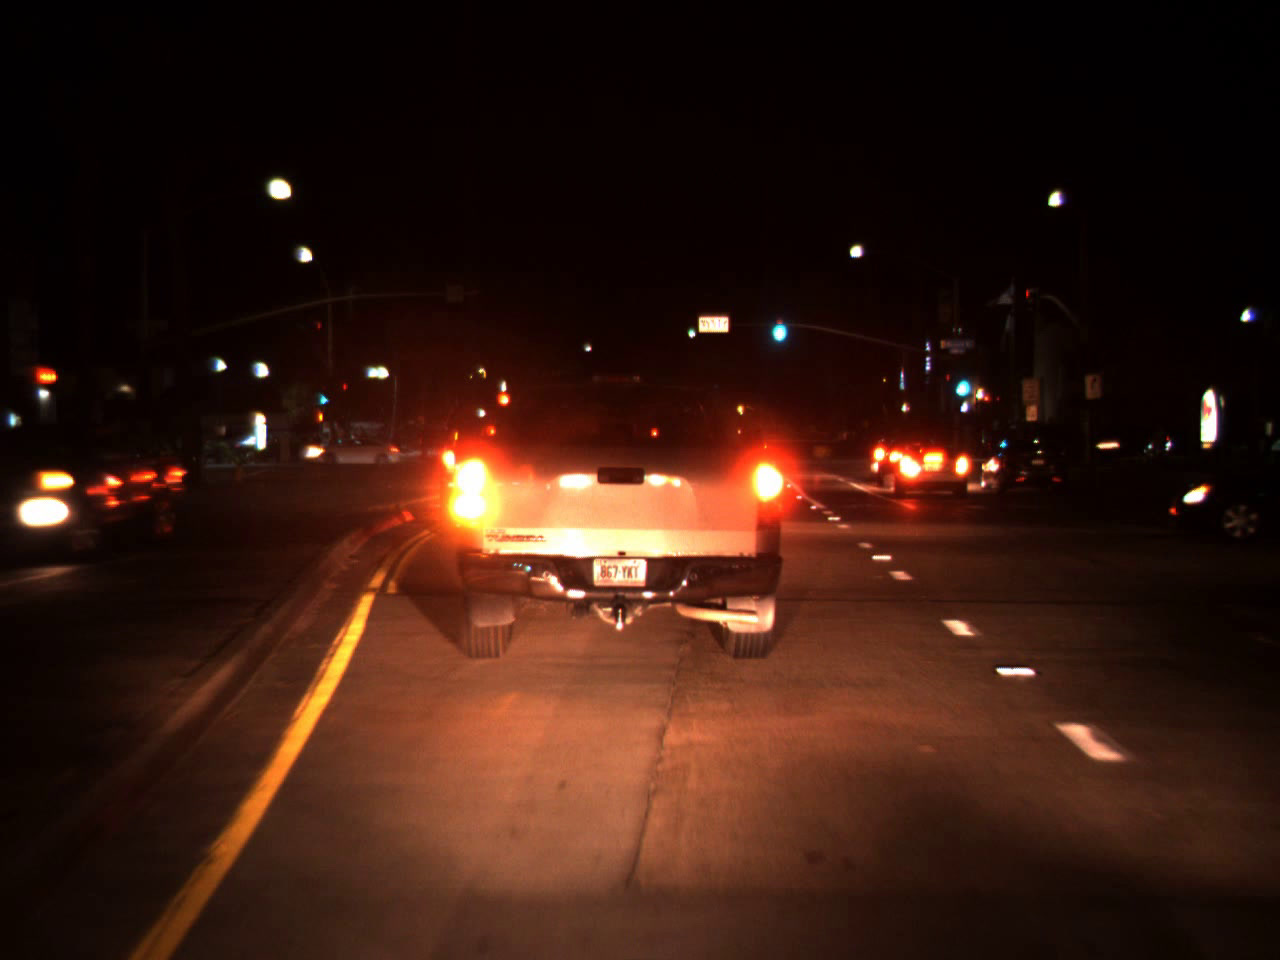go: (768, 302, 789, 347), (951, 362, 972, 401), (316, 385, 328, 406), (685, 321, 695, 339)
